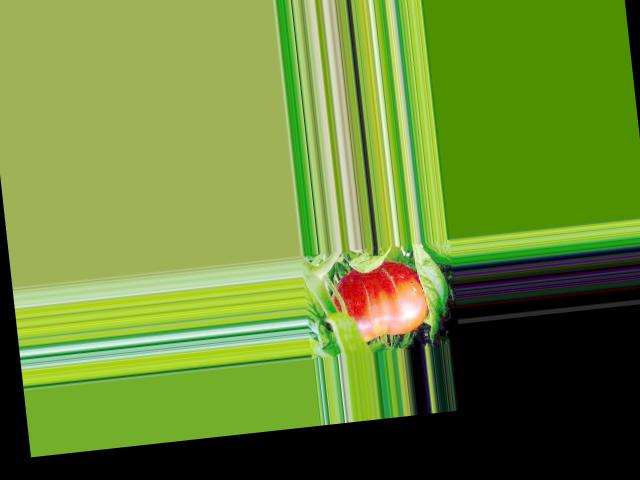tomato: (328, 257, 431, 345)
